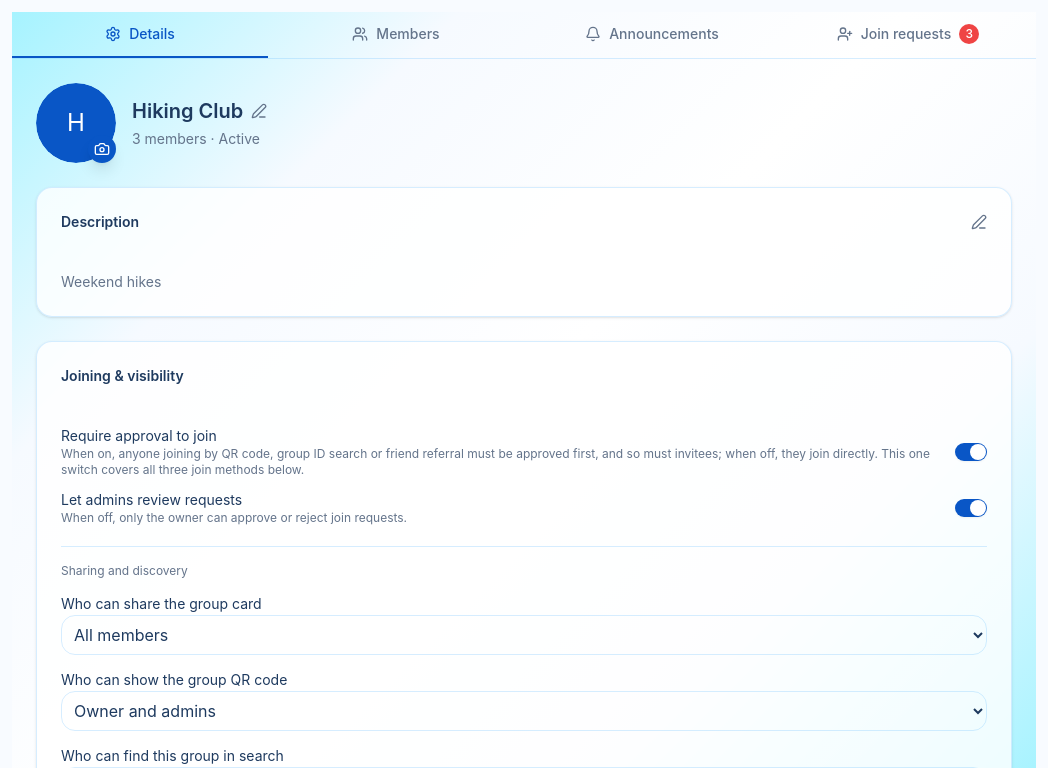
Test: GroupManagement 英文界面 › 成员 / 公告 / 入群申请三个页签：列表、角色名、行说明都是英文
expect the text "Joining & visibility" is shown: met, box [61,367,184,384]
Click the button "Members" at point(396, 35), box [268,12,524,58]
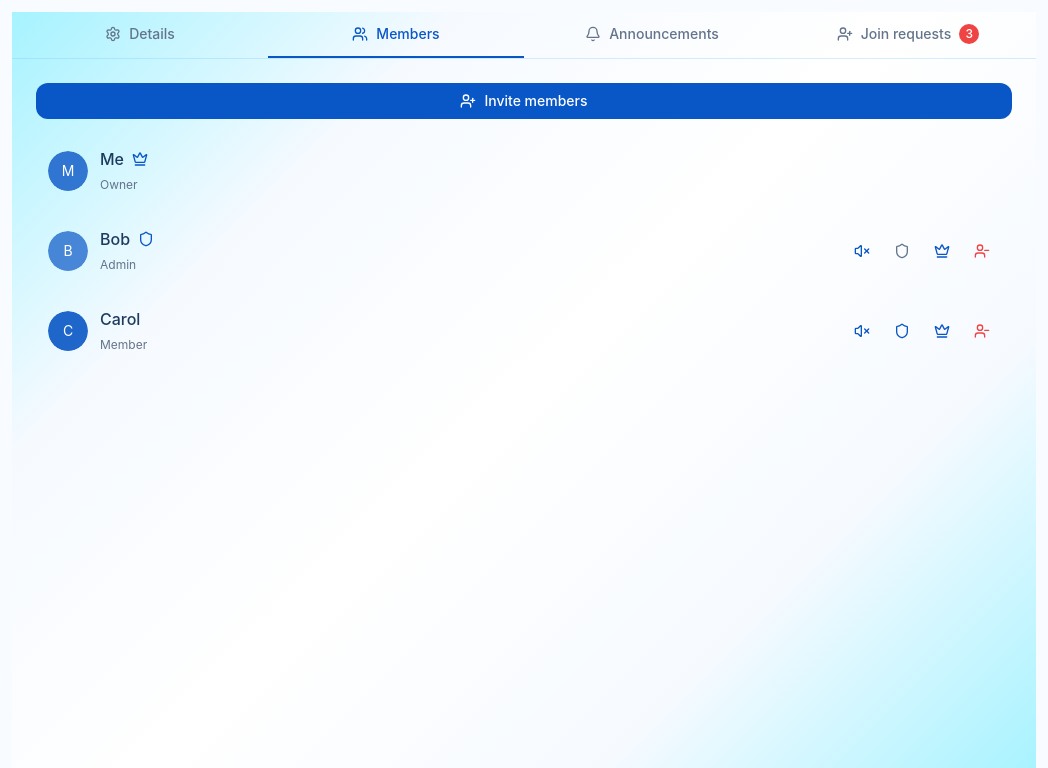
expect the text "Owner" is shown: met, box [100,177,138,192]
expect the button "Invite members" is shown: met, box [36,83,1012,119]
expect the text "Carol" is shown: met, box [100,307,140,331]
Click the button "Announcements" at point(652, 35), box [524,12,780,58]
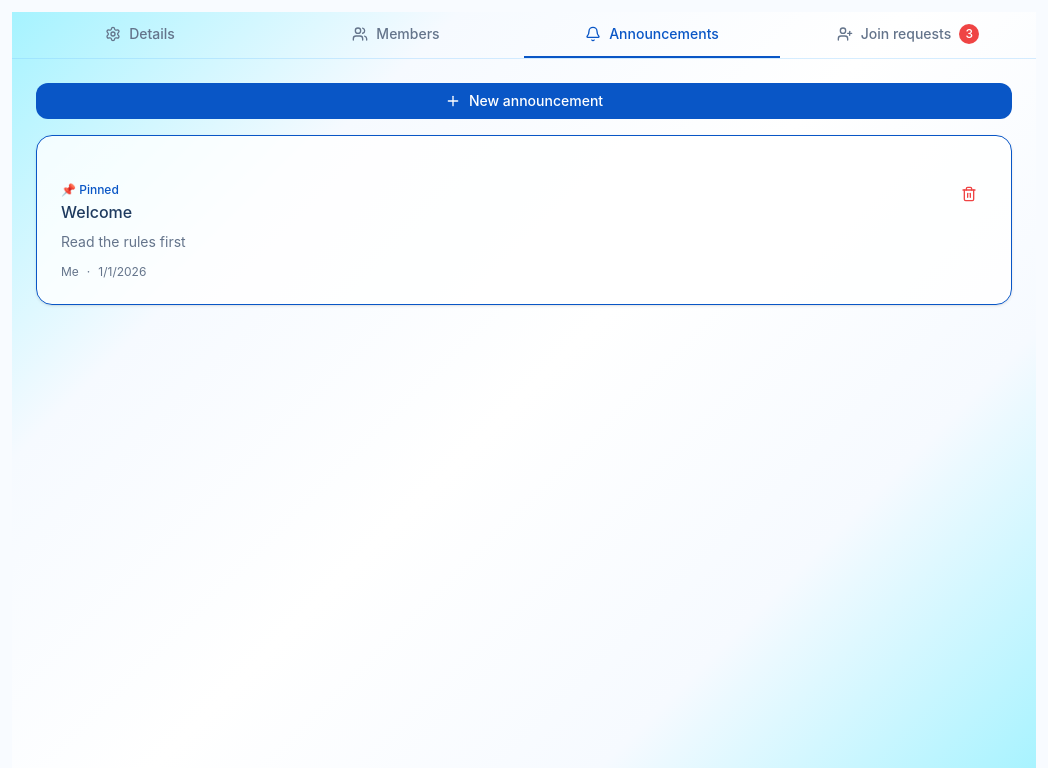
expect the heading "Welcome" is shown: met, box [61,202,132,222]
expect the button "New announcement" is shown: met, box [36,83,1012,119]
expect the text "📌 Pinned" is shown: met, box [61,182,119,197]
Click the button "Join requests 3" at point(908, 35), box [780,12,1036,58]
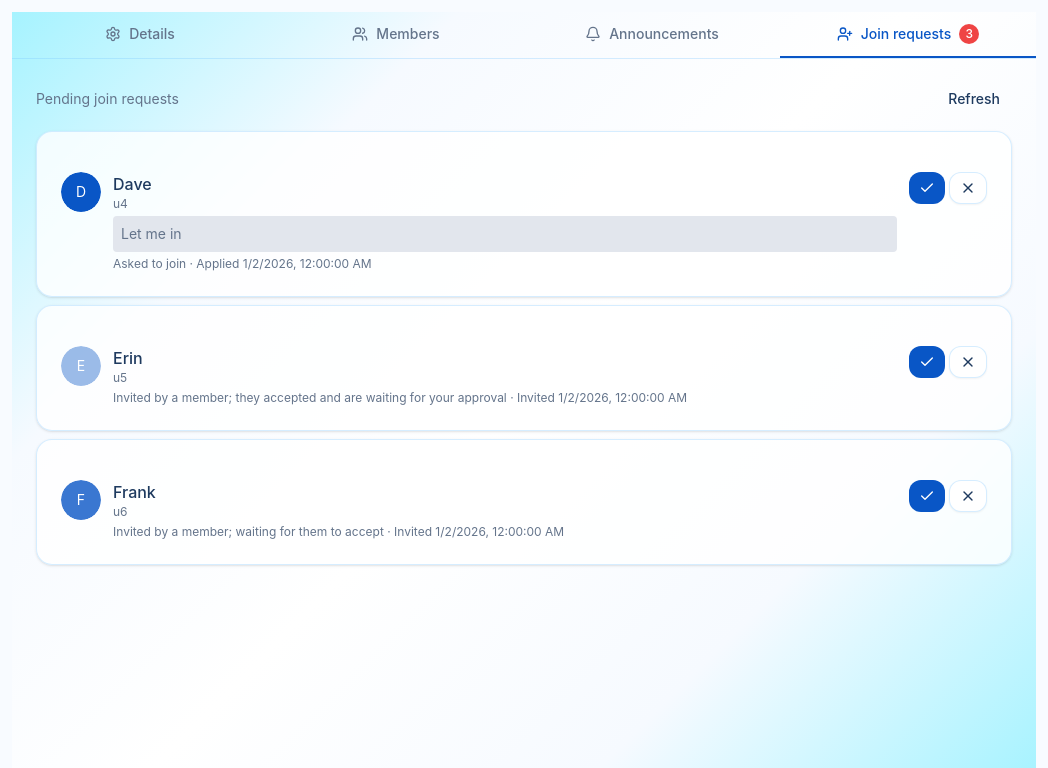
expect the text "Pending join requests" is shown: met, box [36,89,179,109]
expect the button "Refresh" is shown: met, box [936,83,1012,115]
expect the text "Frank" is shown: met, box [113,482,156,502]
